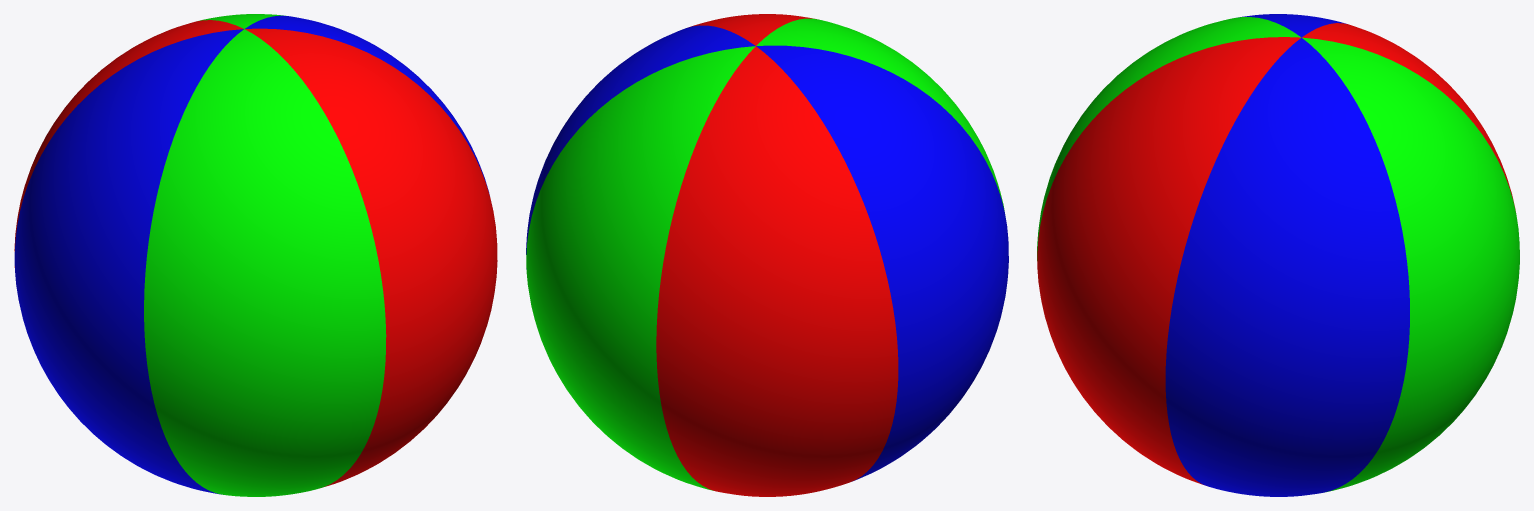
3 renders of one model, left to right at view 1: azimuth 30°, elevation 25°; view 2: azimuth 150°, elevation 25°; view 3: azimuth 270°, elevation 25°, orthographic.
Parts seen in each view (by area): view 1: ball; view 2: ball; view 3: ball.
Boxes of the visible parts, x1=… form: ball: x1=14, y1=14, x2=497, y2=496; ball: x1=526, y1=14, x2=1008, y2=496; ball: x1=1037, y1=14, x2=1519, y2=496.
Bounding box in the file's own units: 2 × 2 × 2.
